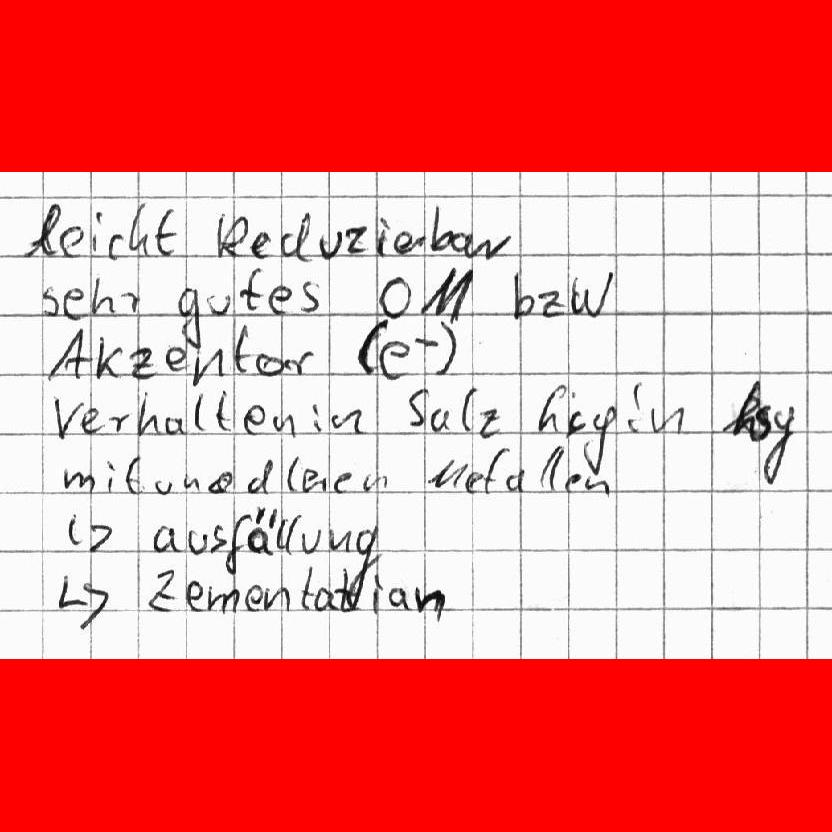Char: (56, 569, 113, 631), (419, 266, 477, 323), (763, 401, 797, 484), (350, 522, 383, 603), (582, 400, 618, 474), (47, 325, 92, 383), (62, 509, 116, 555), (568, 268, 616, 319), (25, 202, 62, 259), (355, 316, 388, 376), (222, 510, 250, 578), (279, 209, 313, 264), (151, 207, 185, 260), (215, 210, 251, 260), (732, 380, 762, 438), (377, 271, 412, 320), (144, 567, 180, 614), (247, 505, 277, 559), (51, 393, 83, 442), (191, 345, 228, 387), (177, 285, 201, 349), (378, 338, 414, 380), (237, 265, 268, 313), (537, 382, 566, 432), (428, 452, 465, 491), (128, 200, 153, 256), (413, 582, 447, 623), (94, 334, 124, 380), (435, 319, 459, 376), (510, 269, 536, 321), (622, 377, 644, 437), (646, 404, 686, 437), (483, 444, 509, 493), (474, 229, 513, 261), (330, 405, 368, 437), (333, 566, 358, 614), (206, 582, 240, 616), (136, 390, 160, 438), (246, 457, 274, 498), (232, 322, 254, 374), (428, 205, 452, 252), (128, 345, 159, 381), (150, 523, 183, 556), (405, 386, 430, 428), (122, 453, 147, 495), (60, 464, 96, 493), (91, 275, 117, 315), (536, 287, 568, 319), (265, 283, 295, 315), (57, 223, 85, 257), (343, 223, 372, 255), (359, 469, 393, 496), (298, 276, 321, 315), (61, 286, 88, 319), (282, 349, 315, 376), (241, 402, 267, 436), (581, 473, 615, 499), (262, 584, 292, 613), (299, 563, 317, 611), (317, 227, 342, 261), (459, 386, 477, 433), (248, 228, 274, 260), (284, 449, 302, 495), (565, 406, 590, 439), (215, 390, 233, 435), (478, 406, 502, 439), (549, 443, 565, 492), (163, 344, 190, 373), (255, 350, 284, 377), (40, 282, 61, 318), (271, 411, 298, 439), (375, 212, 391, 259), (503, 464, 528, 494), (284, 511, 301, 555), (186, 526, 209, 558), (539, 444, 554, 493), (78, 407, 103, 435), (754, 403, 771, 443), (185, 578, 205, 612), (208, 523, 228, 557), (206, 291, 233, 316), (89, 210, 105, 252), (312, 583, 336, 611), (298, 527, 322, 555), (386, 584, 410, 611), (327, 525, 351, 552), (462, 466, 483, 496), (272, 515, 289, 552), (331, 468, 353, 496), (193, 392, 208, 433), (119, 289, 142, 315), (428, 407, 451, 433), (391, 228, 412, 256), (370, 571, 384, 613), (104, 458, 120, 494), (300, 463, 319, 493), (106, 229, 124, 260), (451, 231, 473, 255), (244, 582, 262, 610), (563, 468, 581, 495), (310, 402, 325, 433), (108, 411, 129, 433), (163, 415, 185, 435), (414, 333, 439, 350), (153, 478, 173, 497), (181, 473, 202, 490), (413, 229, 427, 253), (318, 471, 330, 495)
